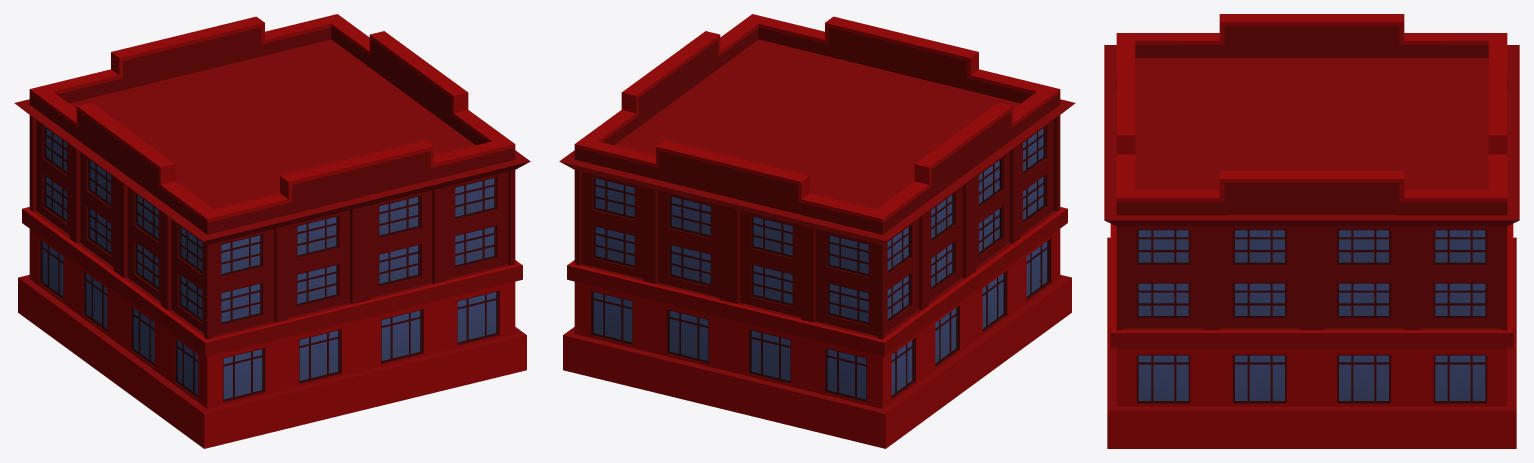
Rendered from buildings-residential-loft_v4.fbx.
3 renders of one model, left to right at view 1: azimuth 30°, elevation 25°; view 2: azimuth 150°, elevation 25°; view 3: azimuth 270°, elevation 25°, orthographic. The views are drawn at different scales.
Parts seen in each view (by area): view 1: Loft_v4_test, Loft_v4_windowRefl; view 2: Loft_v4_test, Loft_v4_windowRefl; view 3: Loft_v4_test, Loft_v4_windowRefl.
Boxes of the visible parts, x1,y1,x2,y2 form: Loft_v4_test: [14, 14, 530, 448]; Loft_v4_windowRefl: [42, 128, 496, 399]; Loft_v4_test: [559, 14, 1075, 448]; Loft_v4_windowRefl: [593, 128, 1047, 399]; Loft_v4_test: [1104, 14, 1519, 448]; Loft_v4_windowRefl: [1138, 230, 1485, 400].
Size of the model in its own units: 23.63 by 16.69 by 23.63.
